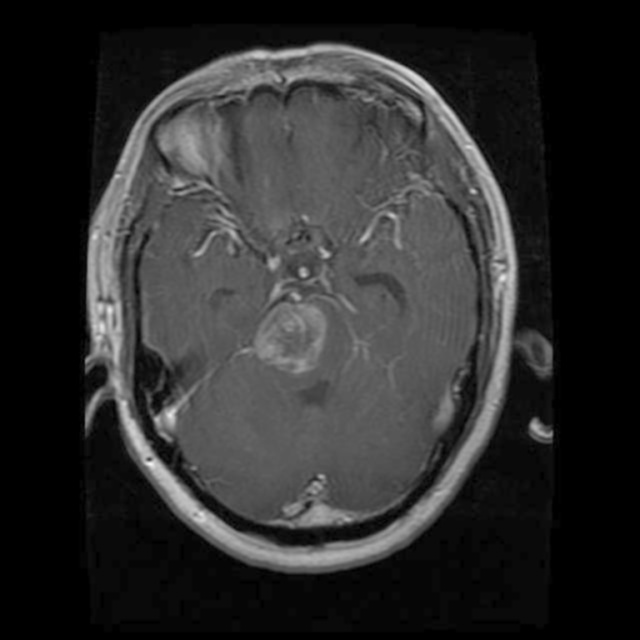pituitary tumor: (255, 299, 329, 380)
